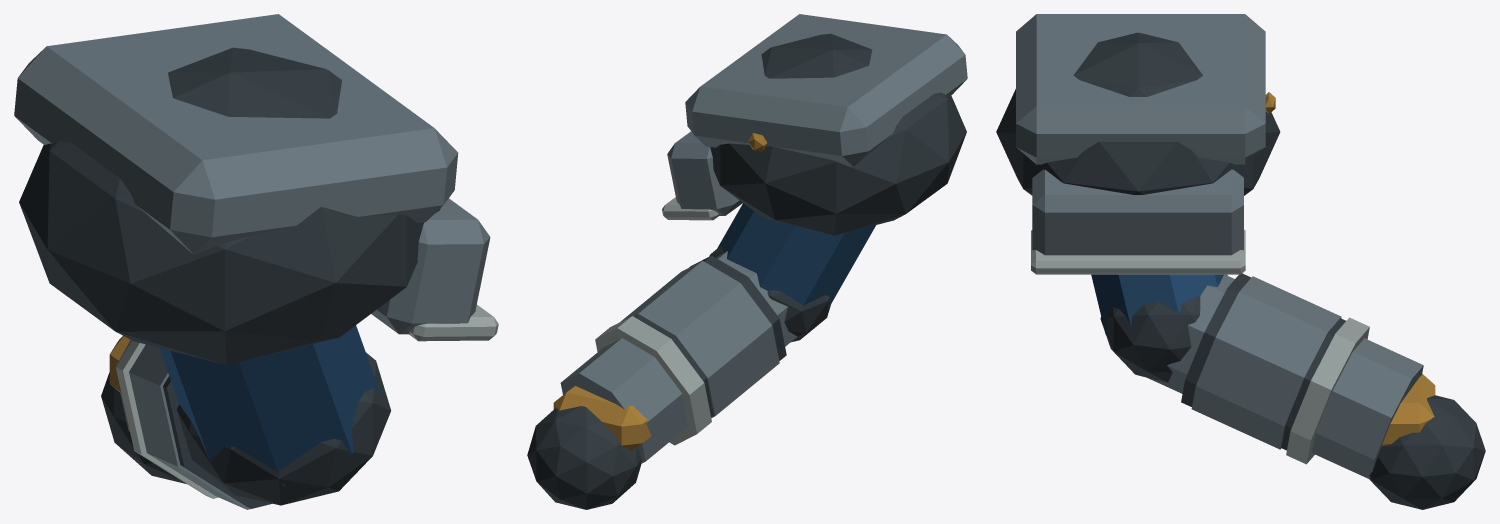
File: ArmRight.glb
The picture shows the model from 3 angles, left to right: view 1: azimuth 30°, elevation 25°; view 2: azimuth 150°, elevation 25°; view 3: azimuth 270°, elevation 25°; orthographic projection. The views are drawn at different scales.
Parts seen in each view (by area): view 1: Sculpture; view 2: Sculpture; view 3: Sculpture.
Part boxes in pixels (x1,y1,x2,y2): Sculpture: (14, 14, 498, 509); Sculpture: (527, 14, 967, 509); Sculpture: (996, 14, 1485, 509).
Size of the model in its own units: 0.535 by 0.705 by 0.775.
